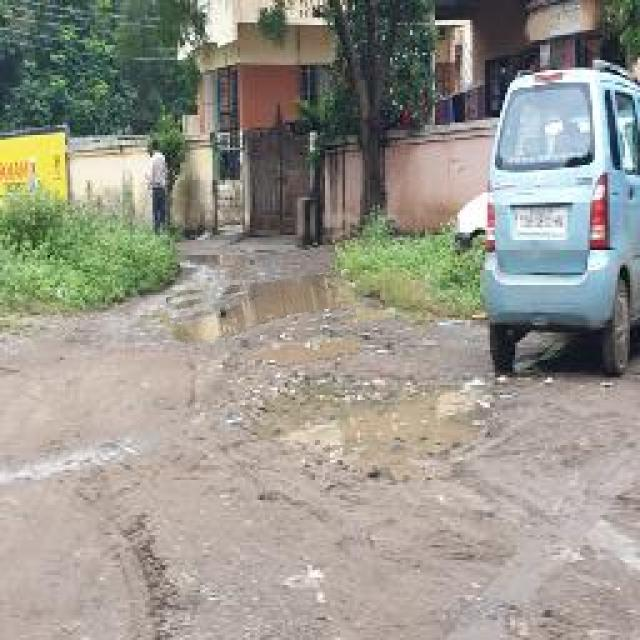puddle: (168, 278, 356, 342)
